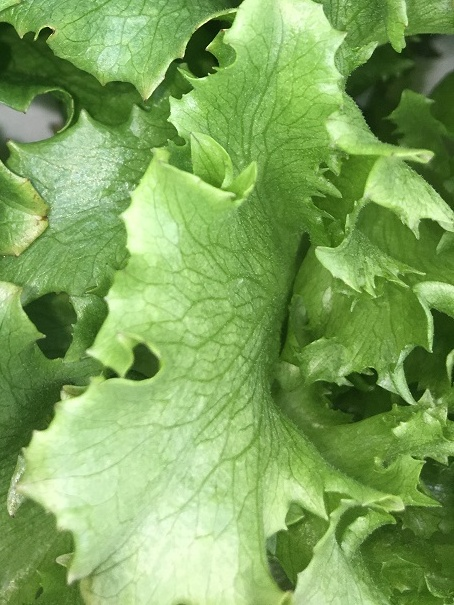tipburn: (110, 325, 133, 345), (39, 18, 60, 36), (19, 170, 37, 189), (36, 209, 52, 227), (4, 504, 20, 522), (9, 245, 25, 263), (216, 22, 232, 39), (137, 88, 151, 107), (16, 104, 32, 119), (6, 479, 20, 495), (399, 19, 412, 32)
